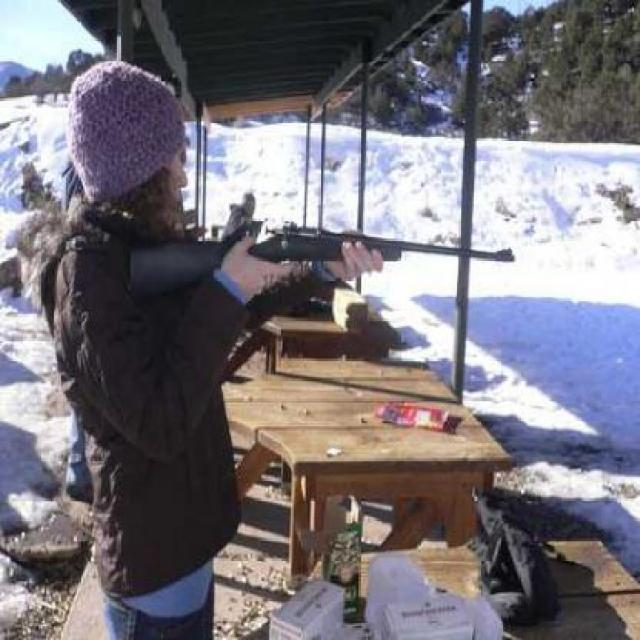weapon: (132, 215, 516, 304)
